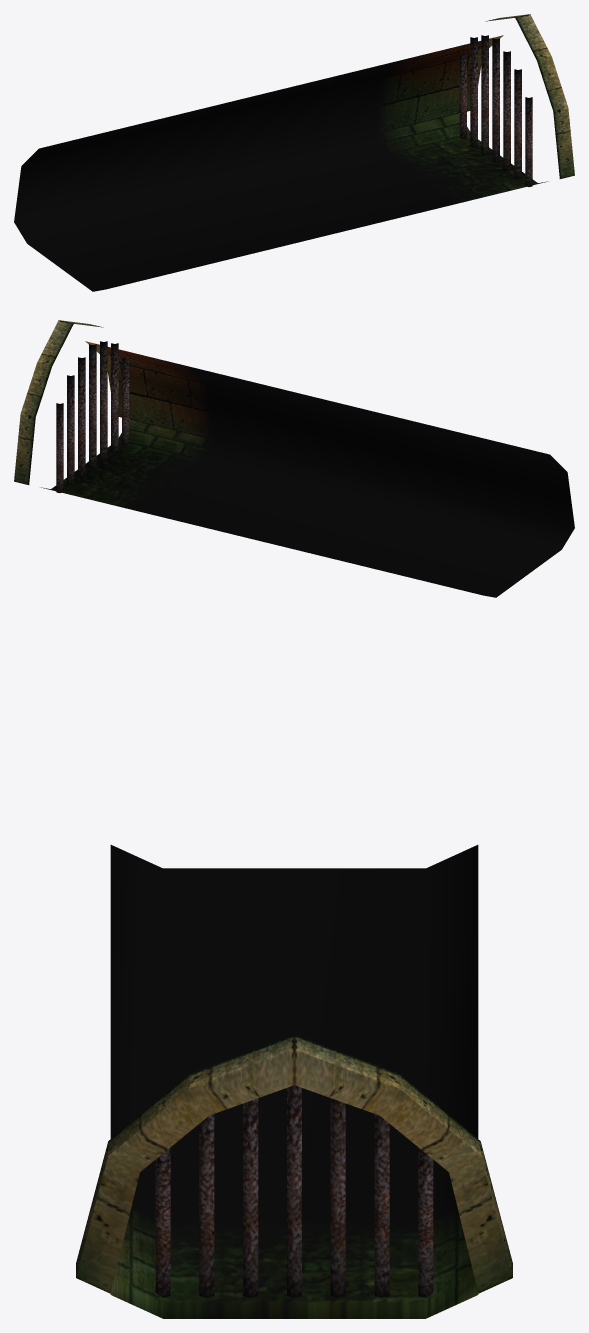
The model's file is Mission12_Sewer02_GPT1.glb.
3 renders of one model, top to bottom at view 1: azimuth 30°, elevation 25°; view 2: azimuth 150°, elevation 25°; view 3: azimuth 270°, elevation 25°, orthographic. The views are drawn at different scales.
Parts seen in each view (by area): view 1: MISSION12_SEWER02_GPT1; view 2: MISSION12_SEWER02_GPT1; view 3: MISSION12_SEWER02_GPT1.
Part boxes in pixels (<box>): MISSION12_SEWER02_GPT1: <box>14,14,574,291</box>; MISSION12_SEWER02_GPT1: <box>14,320,574,597</box>; MISSION12_SEWER02_GPT1: <box>76,845,512,1318</box>.
Size of the model in its own units: 6.2 by 1.85 by 2.49.
Materials: 3 (3 with a texture image).
